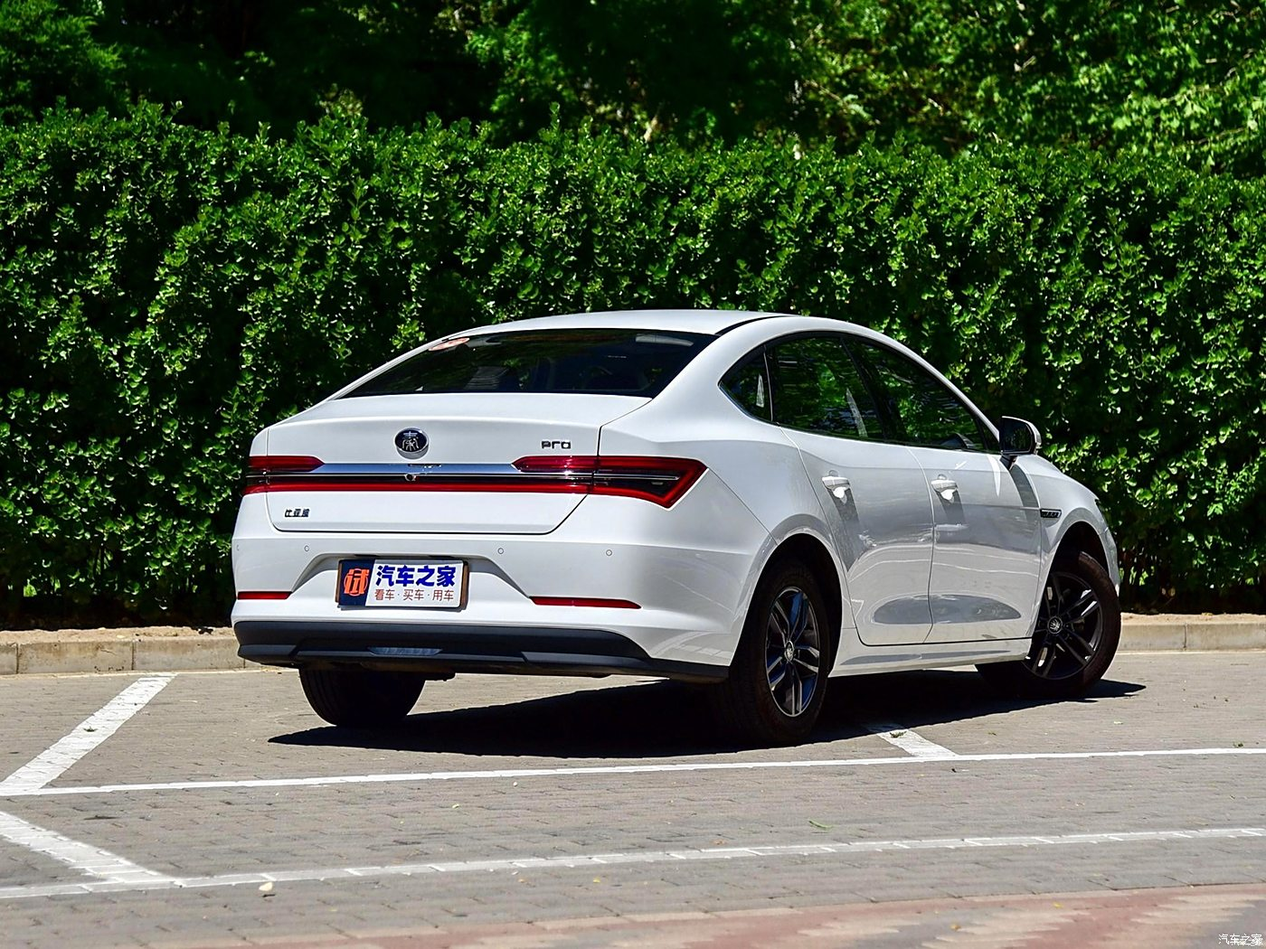BYD Qin: (395, 429, 429, 452)
